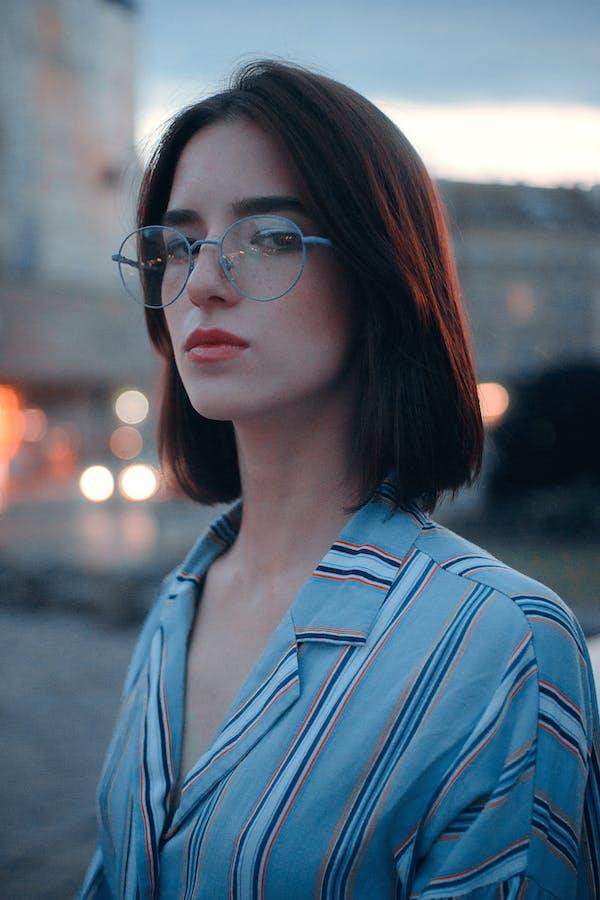eyeglasses: (92, 200, 345, 320)
